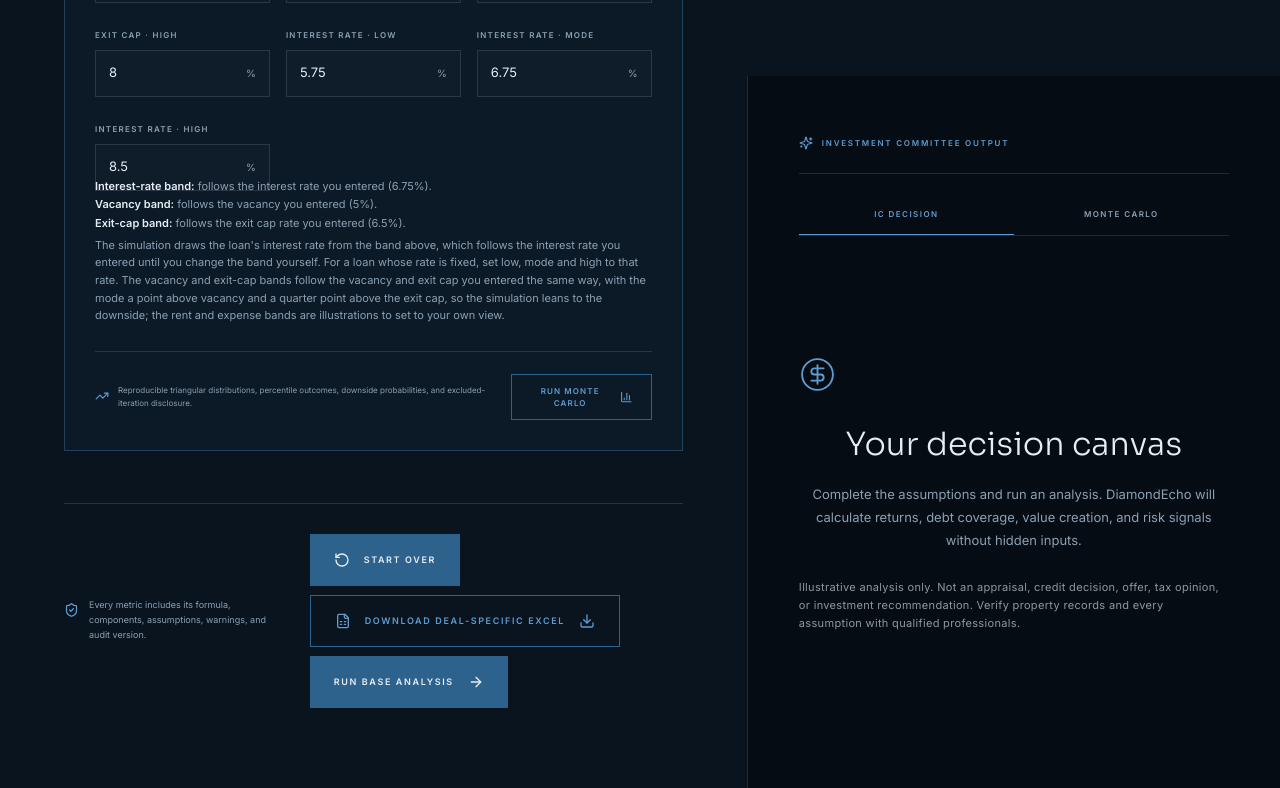
Test: items 1 and 2: the base analysis and the simulation are separate runs › a fault while drawing the results is contained: the form stays and the results can be cleared
(page scrolled)
What coordinates should you click on to do the following:
click the button "Run base analysis"
I would click on:
 (409, 682)
Its box is top-left (310, 656), bottom-right (508, 708).
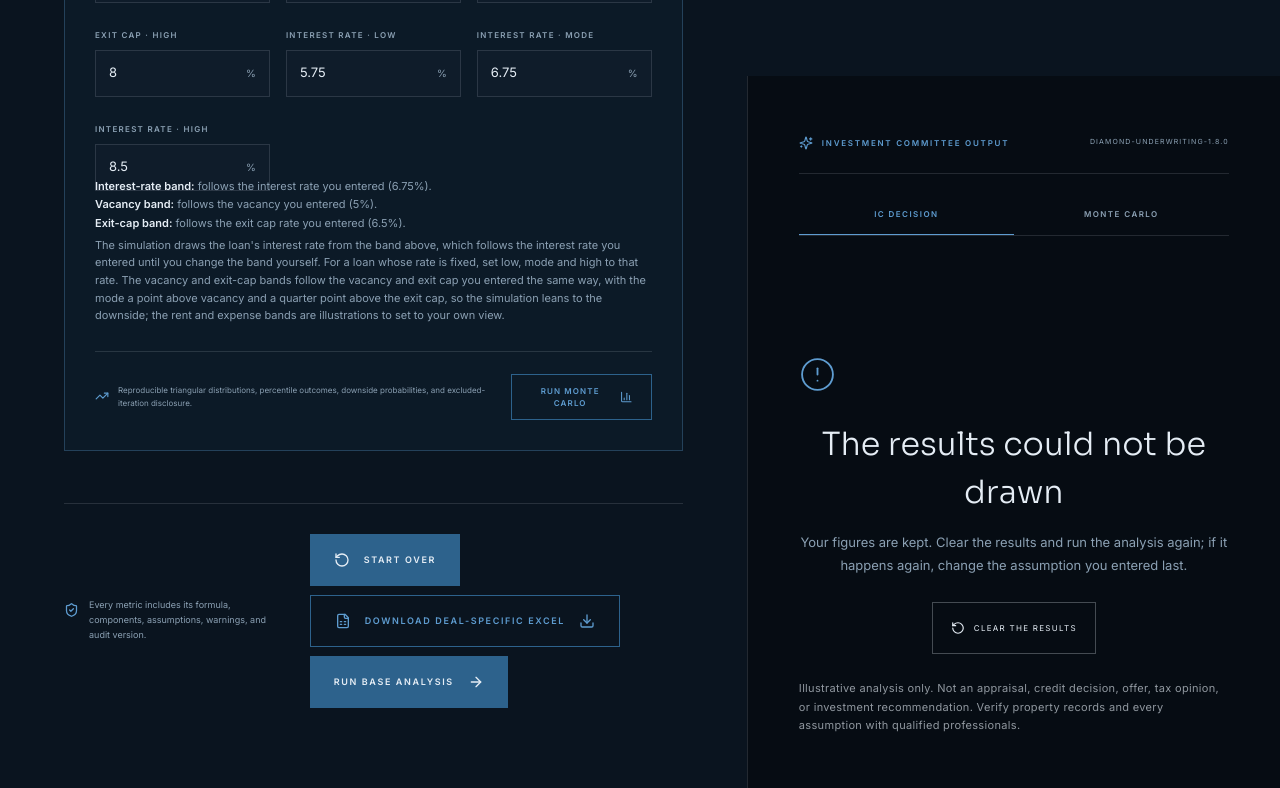
Now the text "The results could not be drawn" is shown, box top-left (799, 420), bottom-right (1229, 516)
What coordinates should you click on to do the following:
click the button "Clear the results"
I would click on:
 (1014, 628)
Its box is top-left (932, 602), bottom-right (1096, 654).
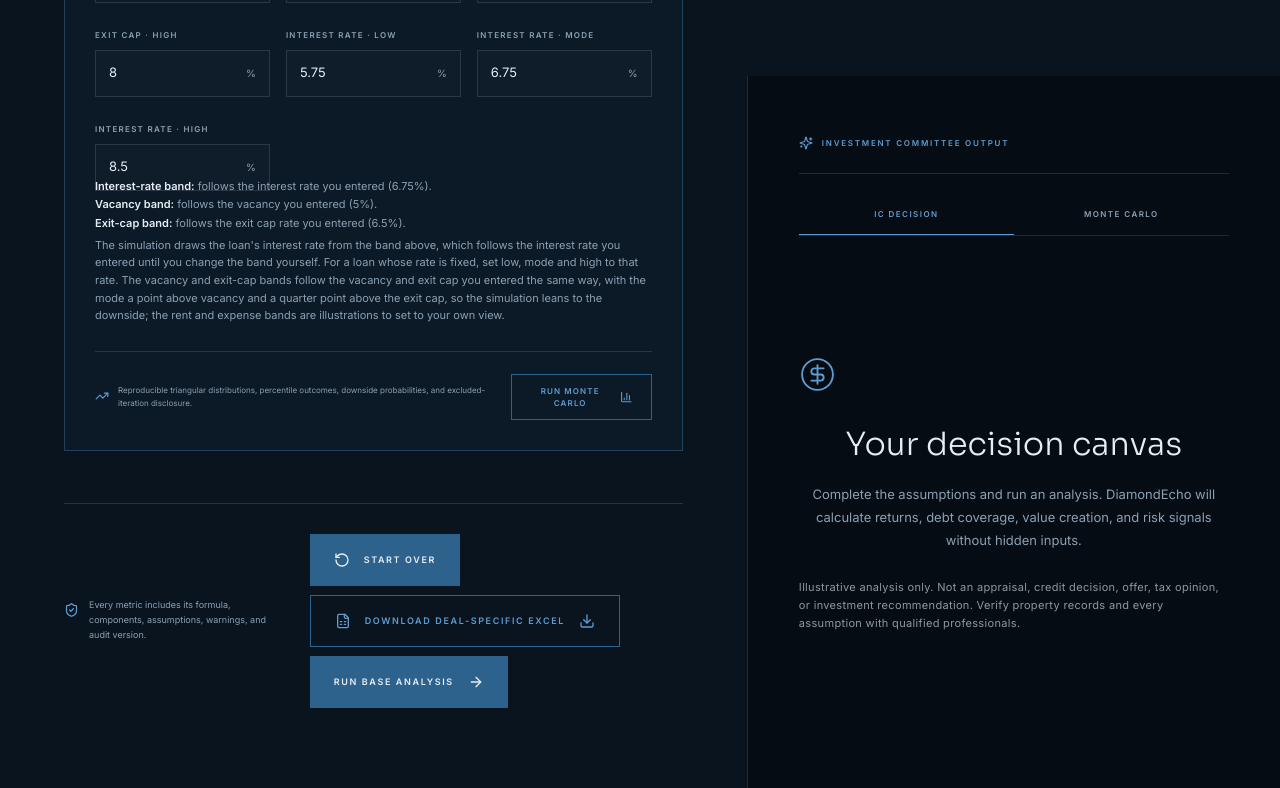
Now the text "Your decision canvas" is shown, box top-left (845, 424), bottom-right (1182, 464)
What coordinates should you click on to do the following:
click the button "Run base analysis"
I would click on:
 (409, 682)
Its box is top-left (310, 656), bottom-right (508, 708).
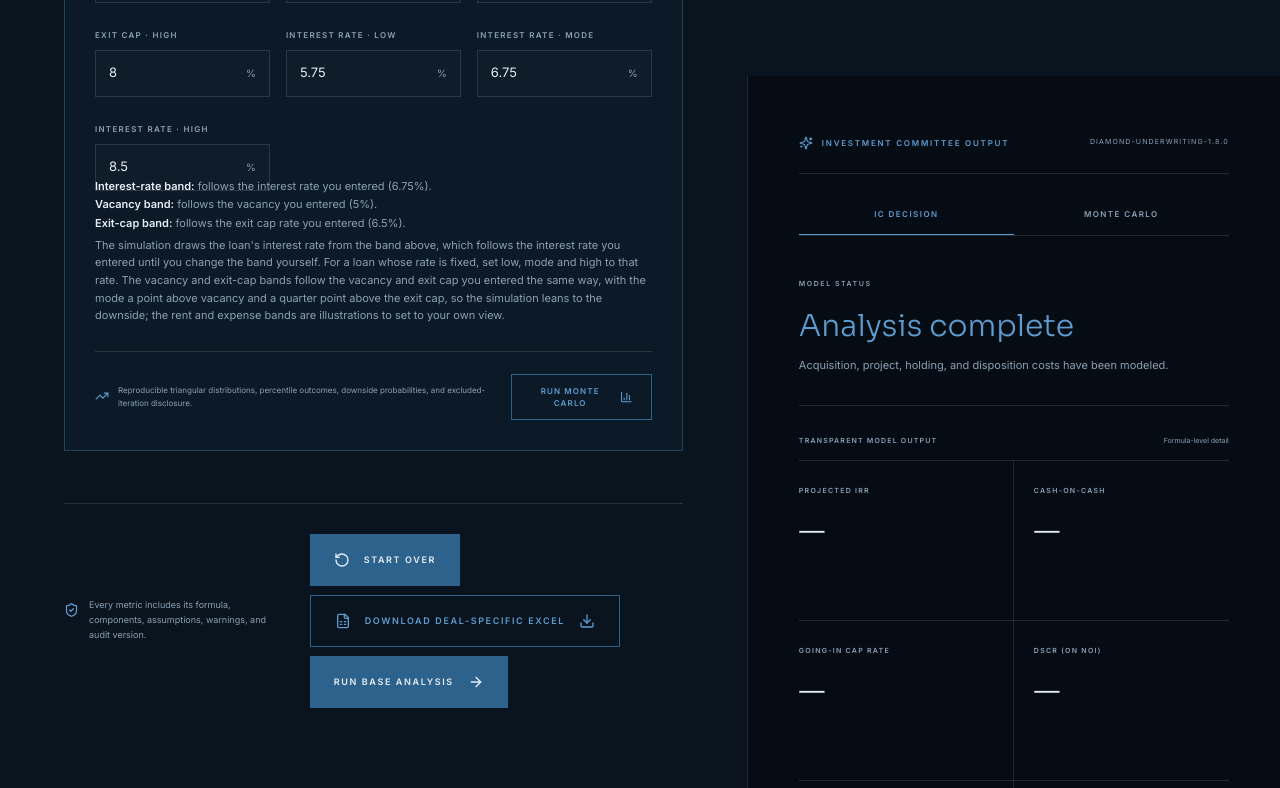
Now the text "Analysis complete" is shown, box top-left (799, 307), bottom-right (1074, 345)
